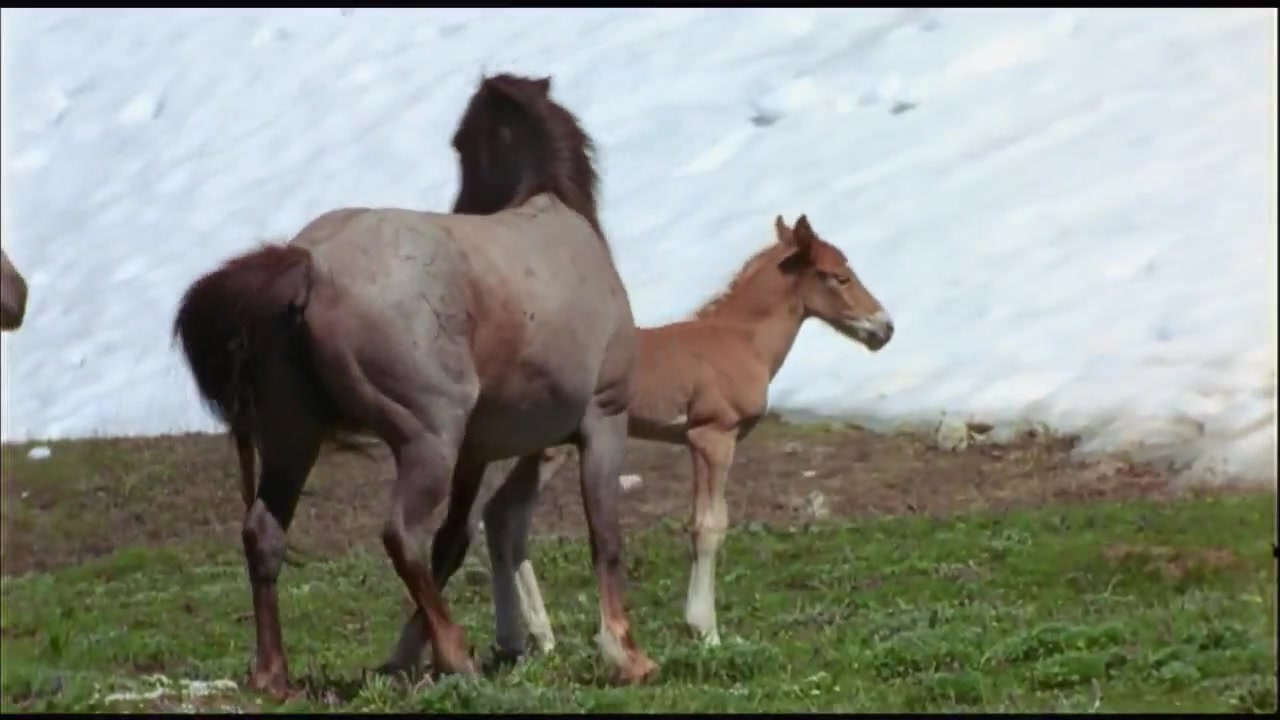horse: (172, 67, 650, 697)
